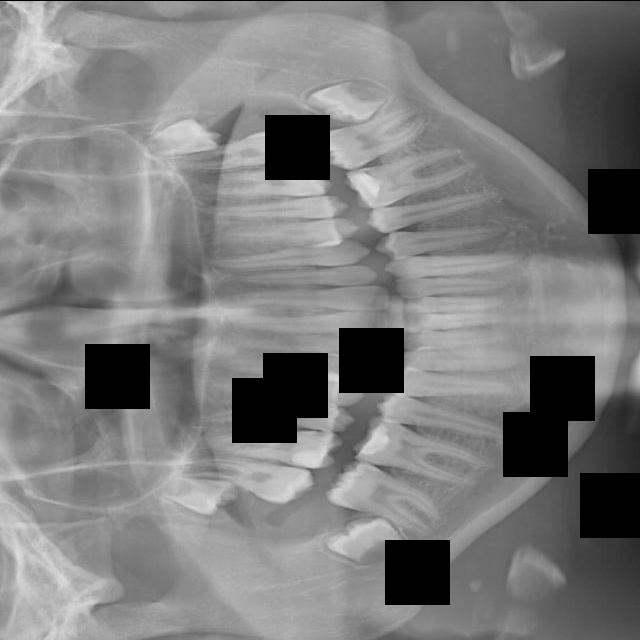3M ESPE Implant: (151, 472, 241, 518)
AGS Medikal Implant: (418, 107, 419, 108)
AMerOss Implant: (341, 143, 481, 212)
Amalgam filling: (178, 450, 317, 508)
Anthogyr Implant: (365, 186, 503, 234)
Bicon Implant: (373, 208, 519, 262)
BioHorizons Implant: (383, 248, 530, 279)
BioLife Implant: (393, 272, 520, 297)
Biomet 3i Implant: (403, 294, 504, 312)
Blue Sky Bio Implant: (404, 312, 505, 329)
Camlog Implant: (398, 329, 509, 348)
Caries: (232, 262, 379, 294)
Composite filling: (392, 346, 524, 372)
Cowellmedi Implant: (383, 368, 520, 402)
Crown: (375, 387, 515, 456)
DENTSPLY Implant: (210, 415, 345, 471)
Dentatus Implant: (349, 412, 493, 496)
Dentis Implant: (320, 453, 452, 541)
Dentium Implant: (320, 504, 409, 578)
Euroteknika Implant: (193, 397, 357, 432)
Filling: (218, 376, 365, 406)
Frontier Implant: (207, 345, 375, 384)
Hiossen Implant: (195, 237, 372, 276)
Implant: (233, 310, 390, 336)
Implant Direct: (239, 332, 377, 356)
Keystone Dental Implant: (229, 284, 391, 311)
MIS Implant: (221, 215, 359, 248)
Mandible: (197, 192, 351, 229)
Maxilla: (206, 157, 333, 205)
Megagen Implant: (174, 126, 304, 174)
Neodent Implant: (135, 111, 224, 161)
Neoss Implant: (306, 79, 392, 122)
